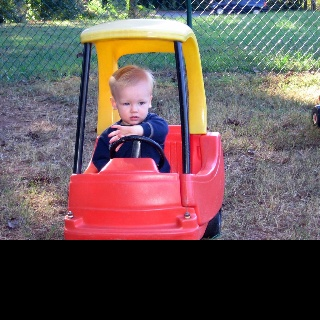without_mask: (116, 80, 150, 124)
